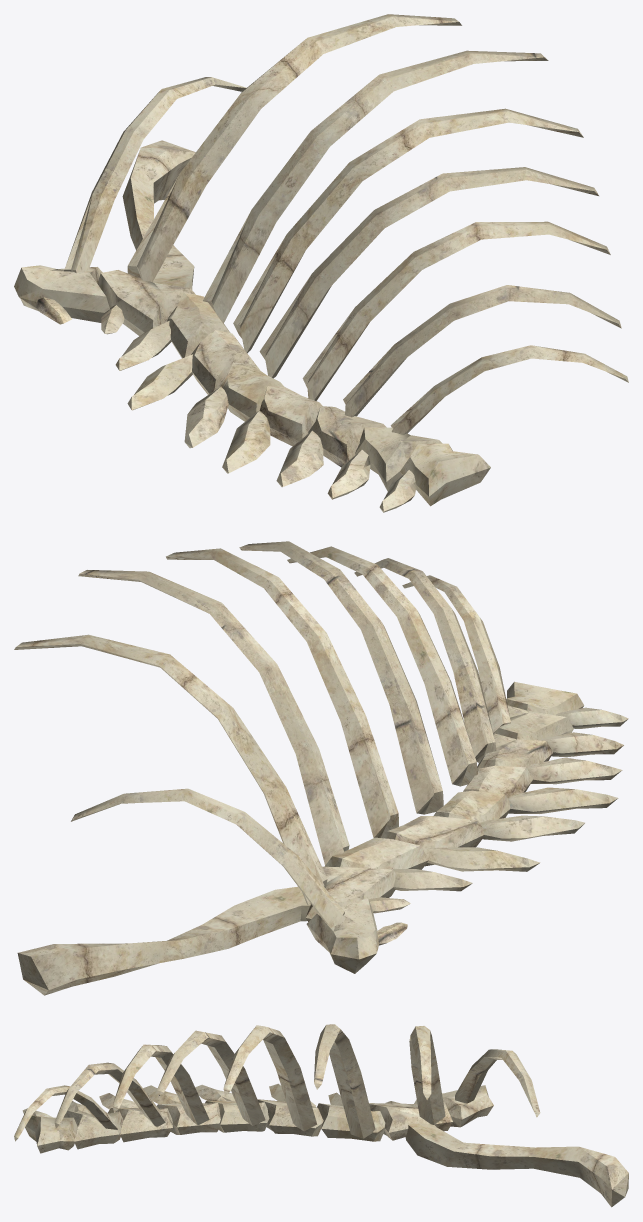
The model's file is TW2_5_BONES_01_11-transformed.glb.
The picture shows the model from 3 angles, top to bottom: view 1: azimuth 30°, elevation 25°; view 2: azimuth 150°, elevation 25°; view 3: azimuth 270°, elevation 25°; orthographic projection. The views are drawn at different scales.
Parts seen in each view (by area): view 1: 5_BONES_01_11; view 2: 5_BONES_01_11; view 3: 5_BONES_01_11.
Boxes of the visible parts, x1=… form: 5_BONES_01_11: x1=14, y1=14, x2=628, y2=512; 5_BONES_01_11: x1=14, y1=541, x2=628, y2=995; 5_BONES_01_11: x1=14, y1=1024, x2=628, y2=1207.
Bounding box in the file's own units: 2.06 × 1.19 × 3.41.
1 material, 1 textured.
